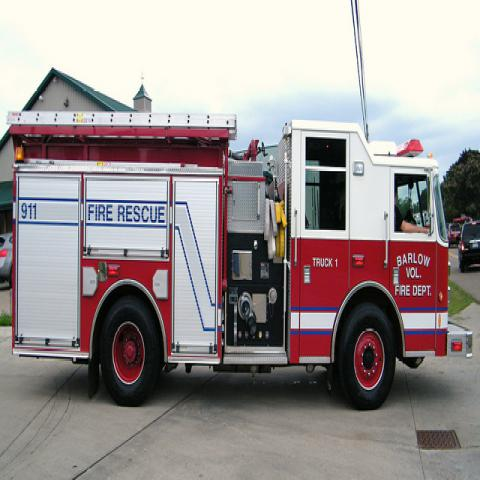car: (457, 220, 480, 273), (0, 232, 13, 289), (447, 222, 461, 249), (412, 214, 421, 224)
truck: (3, 104, 474, 412)
